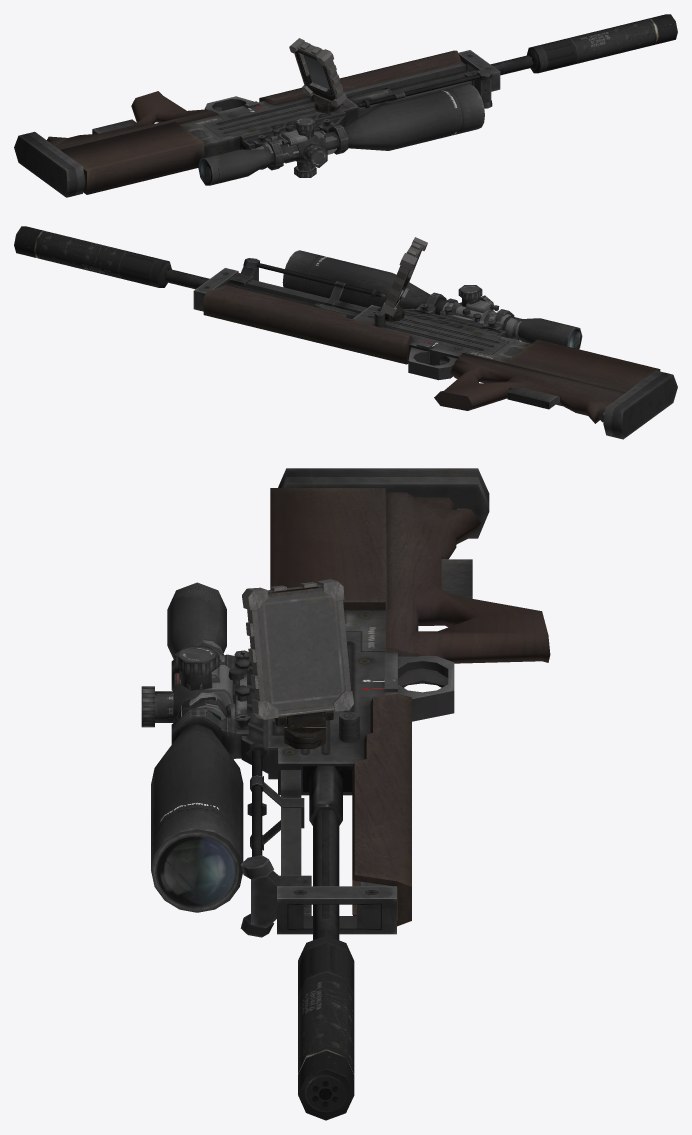
Rendered from weapon_wa2000_LOD0.obj.
The picture shows the model from 3 angles, top to bottom: view 1: azimuth 30°, elevation 25°; view 2: azimuth 150°, elevation 25°; view 3: azimuth 270°, elevation 25°; orthographic projection. The views are drawn at different scales.
Parts seen in each view (by area): view 1: mtl_weapon_wa2000_rifle_wood, mtl_weapon_wa2000_scope, mtl_weapon_suppressor_b, mtl_weapon_motion_tracker, mtl_weapon_thermal_sight_2, mtl_weapon_acog_2; view 2: mtl_weapon_wa2000_rifle_wood, mtl_weapon_wa2000_scope, mtl_weapon_suppressor_b, mtl_weapon_motion_tracker, mtl_weapon_thermal_sight_2, mtl_weapon_acog_2; view 3: mtl_weapon_wa2000_rifle_wood, mtl_weapon_wa2000_scope, mtl_weapon_motion_tracker, mtl_weapon_suppressor_b, mtl_weapon_thermal_sight_2, mtl_weapon_acog_2.
Boxes of the visible parts, left/top/right/bottom form: mtl_weapon_wa2000_rifle_wood: left=14, top=50, right=533, bottom=197; mtl_weapon_wa2000_scope: left=198, top=84, right=484, bottom=185; mtl_weapon_suppressor_b: left=526, top=14, right=677, bottom=73; mtl_weapon_motion_tracker: left=289, top=38, right=346, bottom=112; mtl_weapon_thermal_sight_2: left=258, top=125, right=336, bottom=169; mtl_weapon_acog_2: left=250, top=128, right=324, bottom=166; mtl_weapon_wa2000_rifle_wood: left=165, top=258, right=677, bottom=439; mtl_weapon_wa2000_scope: left=282, top=250, right=582, bottom=349; mtl_weapon_suppressor_b: left=14, top=226, right=171, bottom=287; mtl_weapon_motion_tracker: left=378, top=237, right=427, bottom=321; mtl_weapon_thermal_sight_2: left=442, top=298, right=515, bottom=339; mtl_weapon_acog_2: left=440, top=301, right=521, bottom=340; mtl_weapon_wa2000_rifle_wood: left=240, top=468, right=550, bottom=940; mtl_weapon_wa2000_scope: left=141, top=582, right=250, bottom=912; mtl_weapon_motion_tracker: left=242, top=579, right=353, bottom=748; mtl_weapon_suppressor_b: left=298, top=935, right=354, bottom=1120; mtl_weapon_thermal_sight_2: left=181, top=643, right=243, bottom=719; mtl_weapon_acog_2: left=174, top=639, right=250, bottom=718.
Size of the model in its own units: 114 by 18.24 by 32.75.
